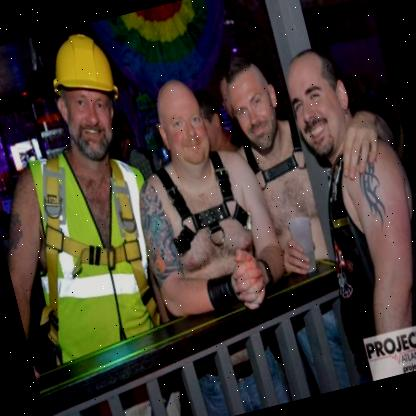capacete: (36, 22, 138, 171)
sem_capacete: (278, 41, 362, 169), (217, 46, 293, 161), (146, 71, 219, 180)
sem_colete_refletivo: (11, 138, 177, 364), (136, 151, 291, 332), (303, 138, 415, 384), (238, 130, 342, 281)
